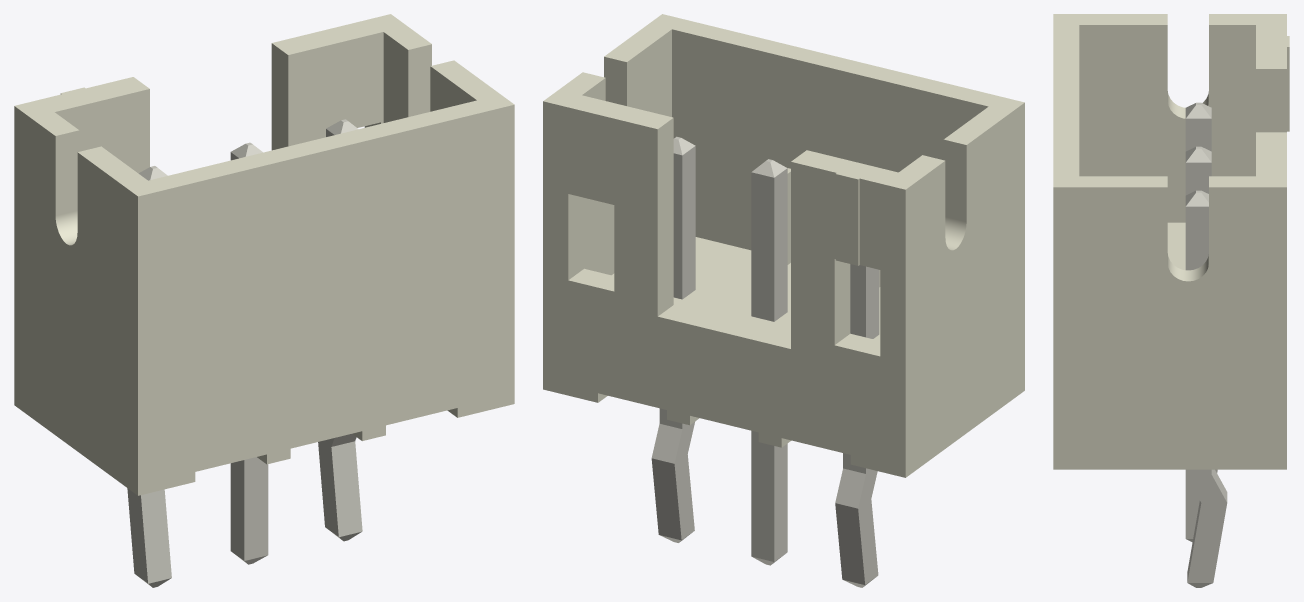
The model's file is Connector_JST__JST_PH_B3B-PH-K_1x03_P2.00mm_Vertical.glb.
3 renders of one model, left to right at view 1: azimuth 30°, elevation 25°; view 2: azimuth 150°, elevation 25°; view 3: azimuth 270°, elevation 25°, orthographic. The views are drawn at different scales.
Parts seen in each view (by area): view 1: JST_B3B_PH_K; view 2: JST_B3B_PH_K; view 3: JST_B3B_PH_K.
Part boxes in pixels (x1,y1,x2,y2): JST_B3B_PH_K: (14,14,514,587); JST_B3B_PH_K: (543,14,1024,587); JST_B3B_PH_K: (1053,14,1289,587).
Size of the model in its own units: 0.0079 by 0.0094 by 0.00455.
